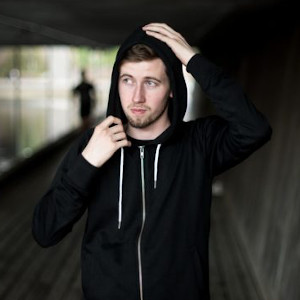BOY: (105, 35, 179, 127)
